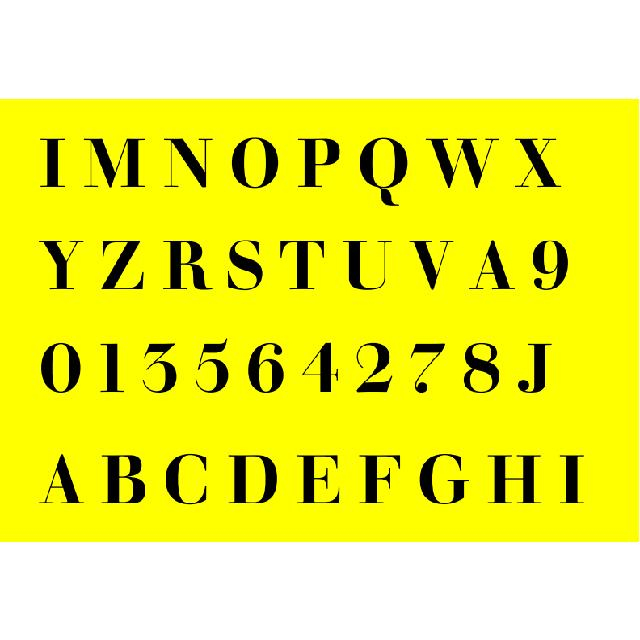0: (33, 335, 83, 396)
1: (518, 334, 557, 399), (304, 332, 341, 400), (96, 332, 130, 398), (95, 334, 125, 401)
2: (353, 330, 393, 402)
5: (140, 334, 178, 400), (195, 332, 232, 398)
6: (241, 333, 289, 394)
7: (409, 334, 445, 398)
8: (463, 334, 503, 395)
9: (527, 234, 572, 294)
A: (37, 451, 85, 506), (467, 239, 516, 291)
B: (102, 447, 147, 510)
C: (164, 447, 210, 509)
D: (224, 449, 276, 513)
E: (288, 449, 346, 510)
F: (356, 446, 406, 508)
G: (414, 448, 467, 511)
H: (486, 448, 546, 508)
I: (555, 448, 592, 509), (41, 127, 68, 196)
M: (84, 133, 144, 197)
N: (161, 129, 212, 196)
O: (229, 131, 279, 196)
P: (295, 131, 343, 191)
Q: (356, 134, 409, 211)
R: (164, 235, 209, 298)
S: (225, 232, 266, 298)
T: (277, 234, 324, 297)
U: (342, 236, 395, 296)
V: (409, 236, 450, 292)
W: (425, 128, 497, 192)
X: (512, 129, 561, 194)
Y: (39, 231, 85, 297)
Z: (96, 236, 146, 294)
